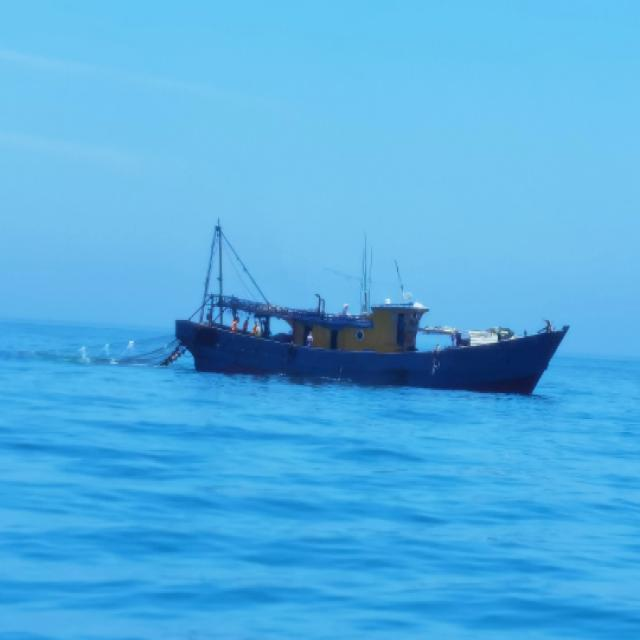fishing boat: (173, 221, 568, 391)
